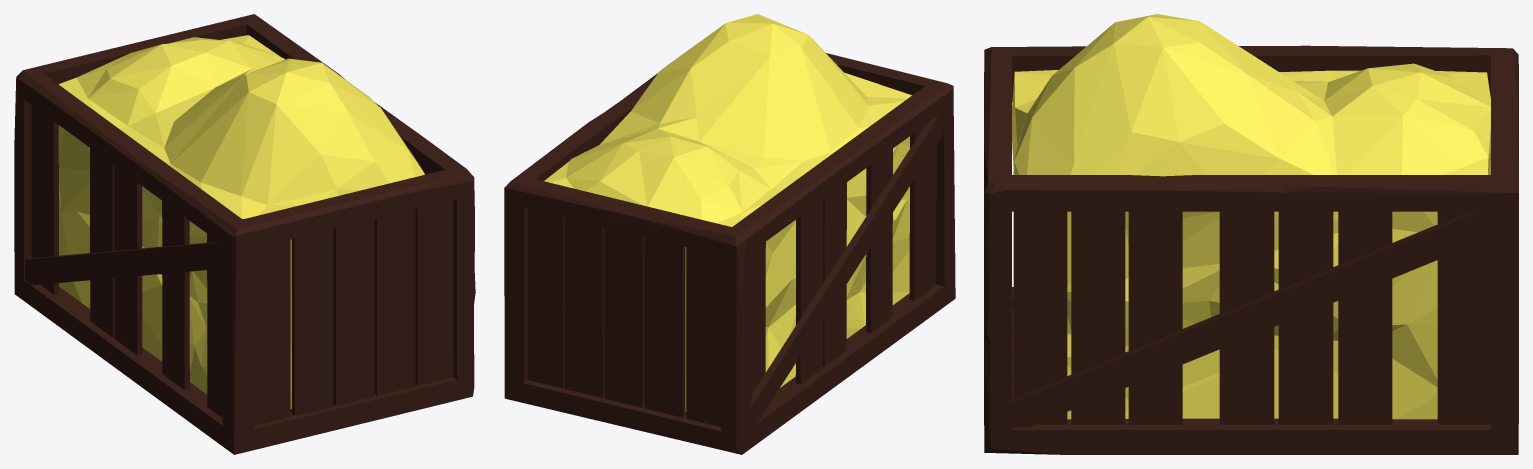
The picture shows the model from 3 angles, left to right: view 1: azimuth 30°, elevation 25°; view 2: azimuth 150°, elevation 25°; view 3: azimuth 270°, elevation 25°; orthographic projection. The views are drawn at different scales.
Visible parts, largest first — view 1: Group18921; view 2: Group18921; view 3: Group18921.
Part boxes in pixels (x1,y1,x2,y2): Group18921: (14,14,475,454); Group18921: (504,14,955,454); Group18921: (984,14,1518,454).
Bounding box in the file's own units: 95.99 × 115 × 152.
